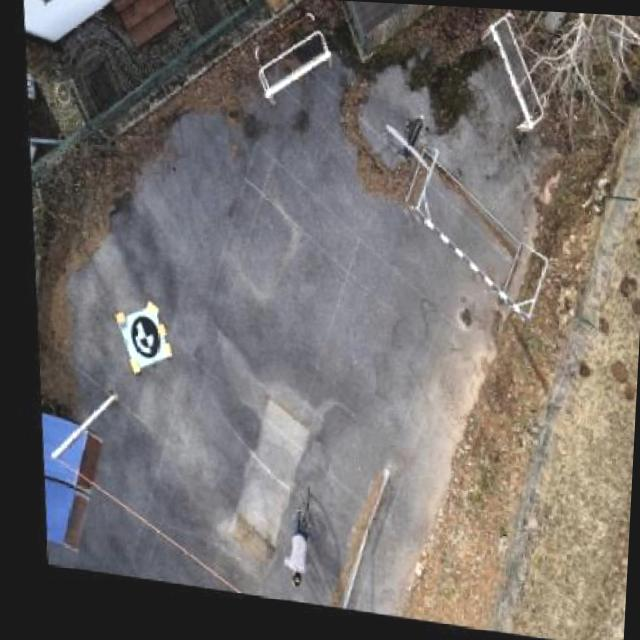Person: (258, 516, 318, 602)
